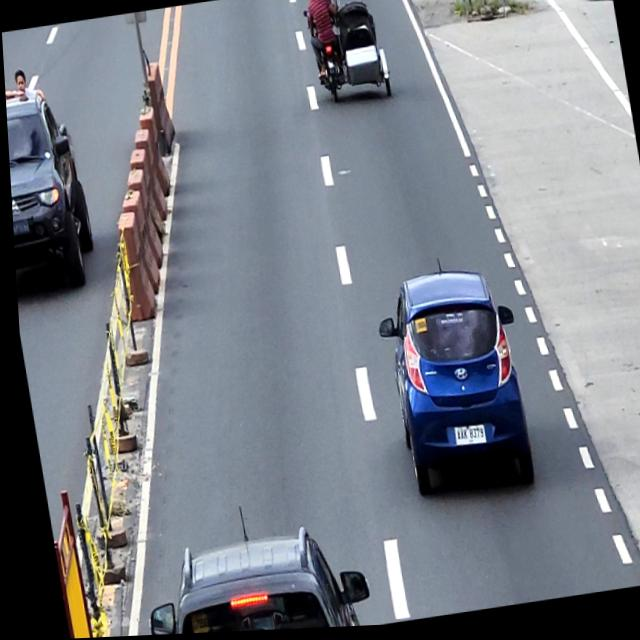Car: (368, 265, 537, 513), (129, 525, 366, 636), (4, 87, 98, 294), (580, 0, 612, 6)
License-Plate: (446, 426, 481, 450), (10, 218, 28, 237)
Tricycle: (298, 0, 392, 111)
